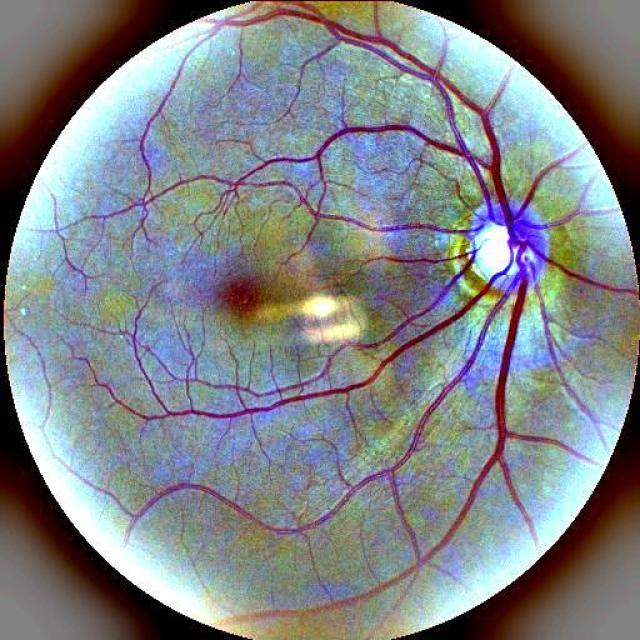Macula: (222, 280, 260, 314)
Optic Disk: (470, 206, 542, 282)
